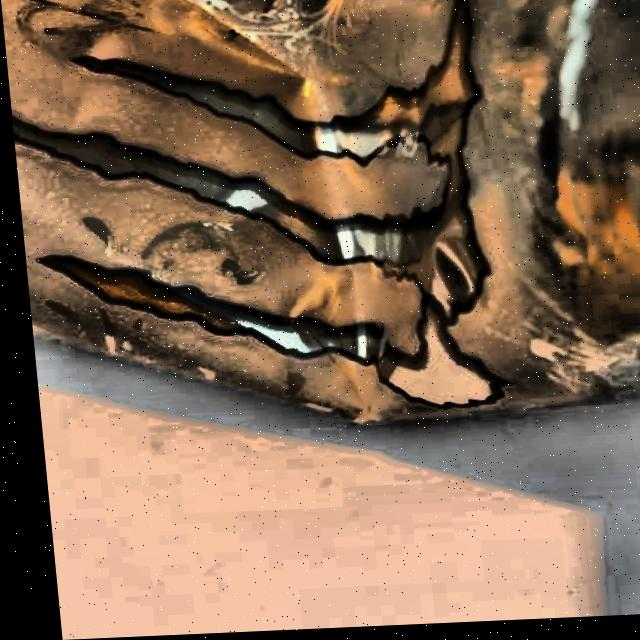metal: (0, 0, 640, 442)
